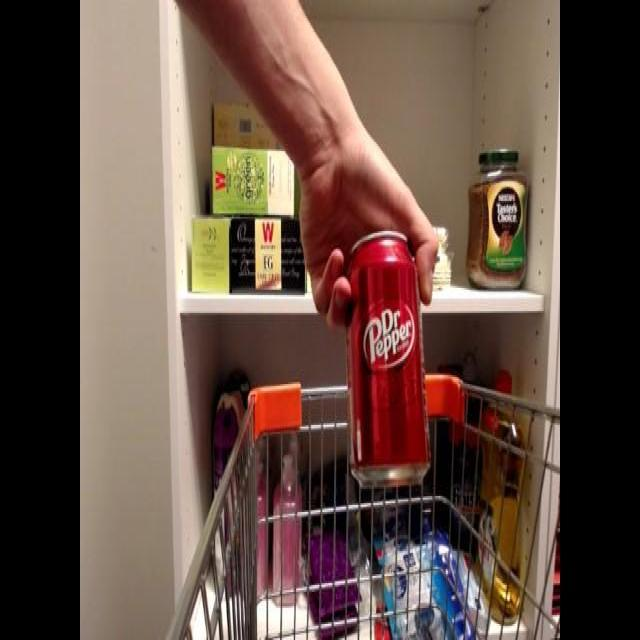Dr Pepper: (346, 230, 432, 500)
